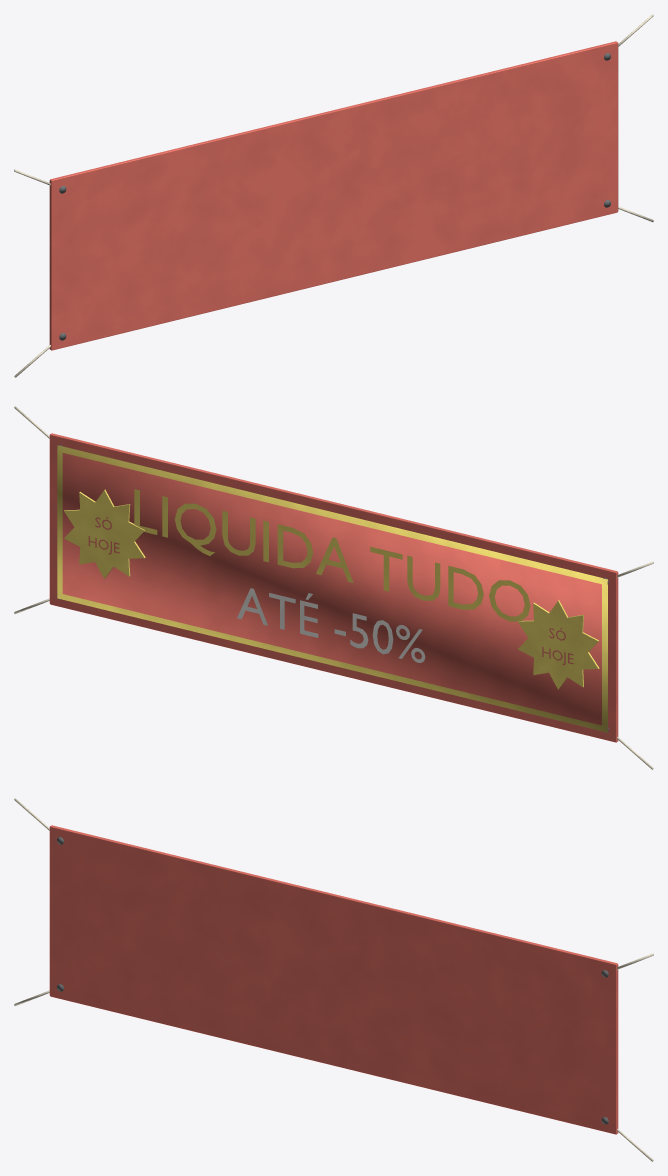
File: FimMes_SaleBanner.fbx
The picture shows the model from 3 angles, top to bottom: view 1: azimuth 30°, elevation 25°; view 2: azimuth 150°, elevation 25°; view 3: azimuth 330°, elevation 25°; orthographic projection.
Parts seen in each view (by area): view 1: FimMes_SaleBanner; view 2: FimMes_SaleBanner; view 3: FimMes_SaleBanner.
Part boxes in pixels (x1,y1,x2,y2): FimMes_SaleBanner: (14, 14, 653, 377); FimMes_SaleBanner: (14, 406, 653, 769); FimMes_SaleBanner: (14, 798, 653, 1161).
Bounding box in the file's own units: 4.51 × 1.4 × 0.0575.
1 material, 1 textured.
